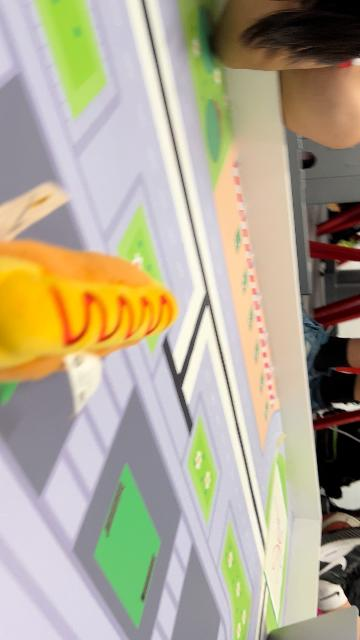hotdog: (1, 238, 179, 384)
